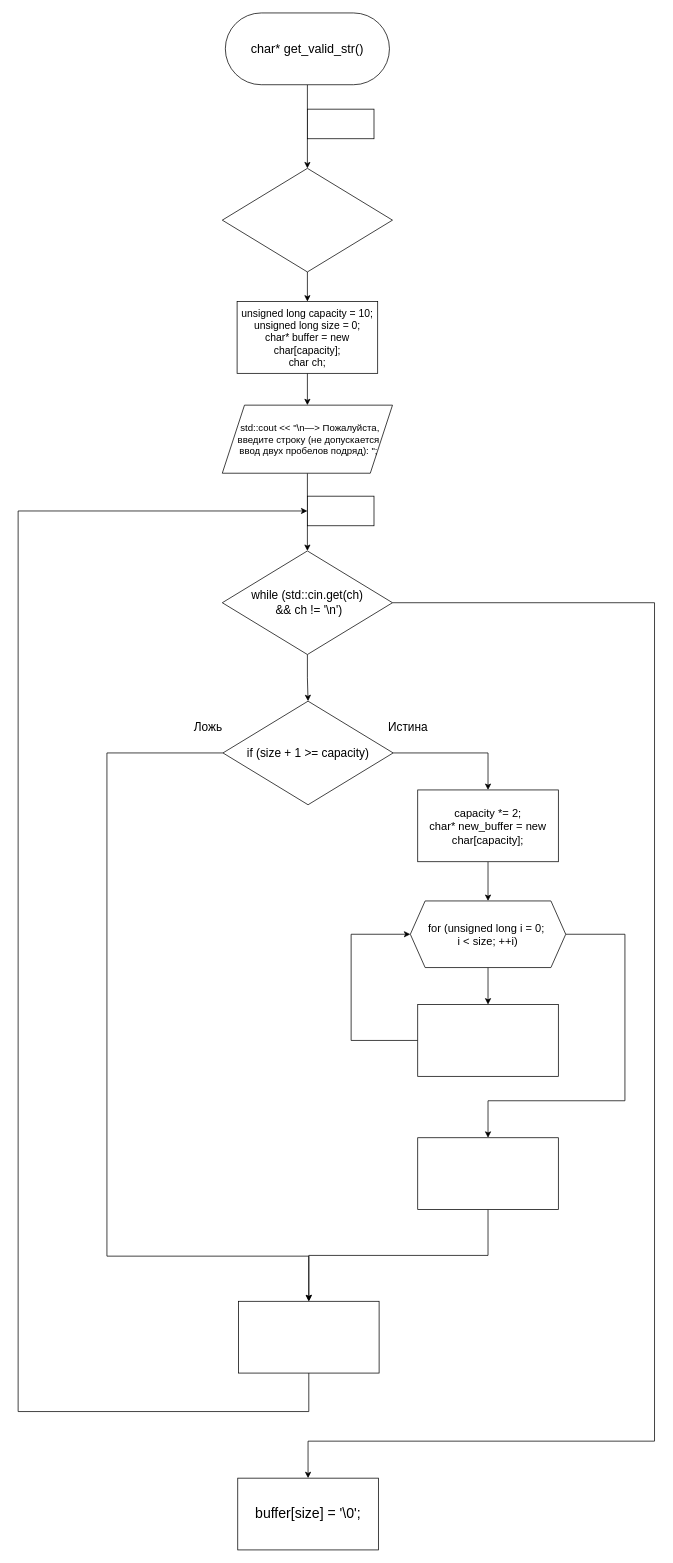
The diagram is 673 pixels wide and 1563 high, and some of its shapes have lost their labels. The shapes that lost their labels are listed below. From the top down, each one's centre as x and y in pixels, then its label:
(x=307, y=220): while true
(x=487, y=1040): new_buffer[i] = buffer[i];
(x=487, y=1173): delete[] buffer; buffer = new_buffer;
(x=308, y=1337): buffer[size++] = ch;
